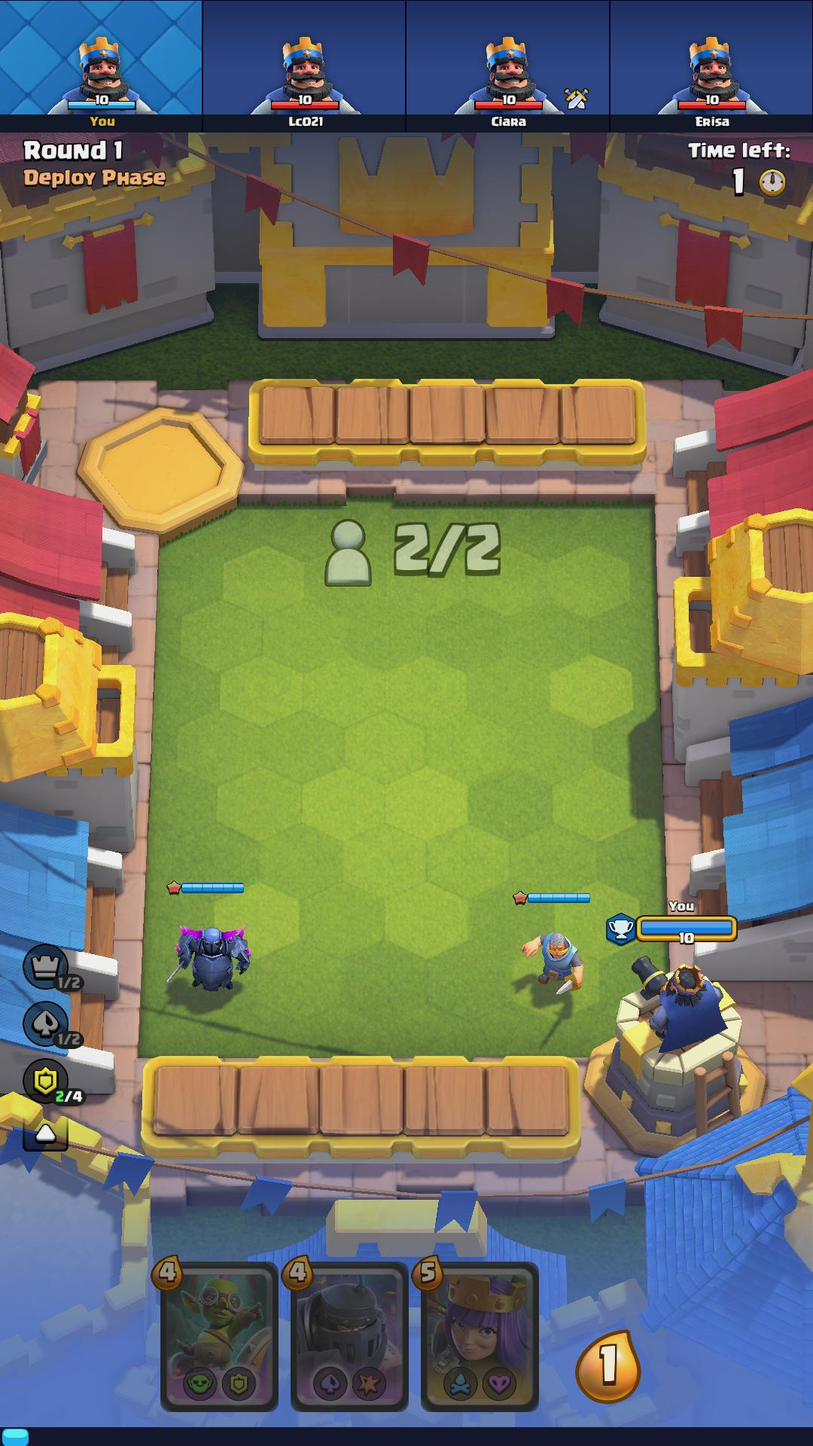hand-machine: (164, 1265, 277, 1411)
hand-mega: (294, 1263, 408, 1411)
hand-queen: (428, 1264, 537, 1407)
knight: (522, 920, 585, 1003)
pekka: (164, 910, 255, 997)
